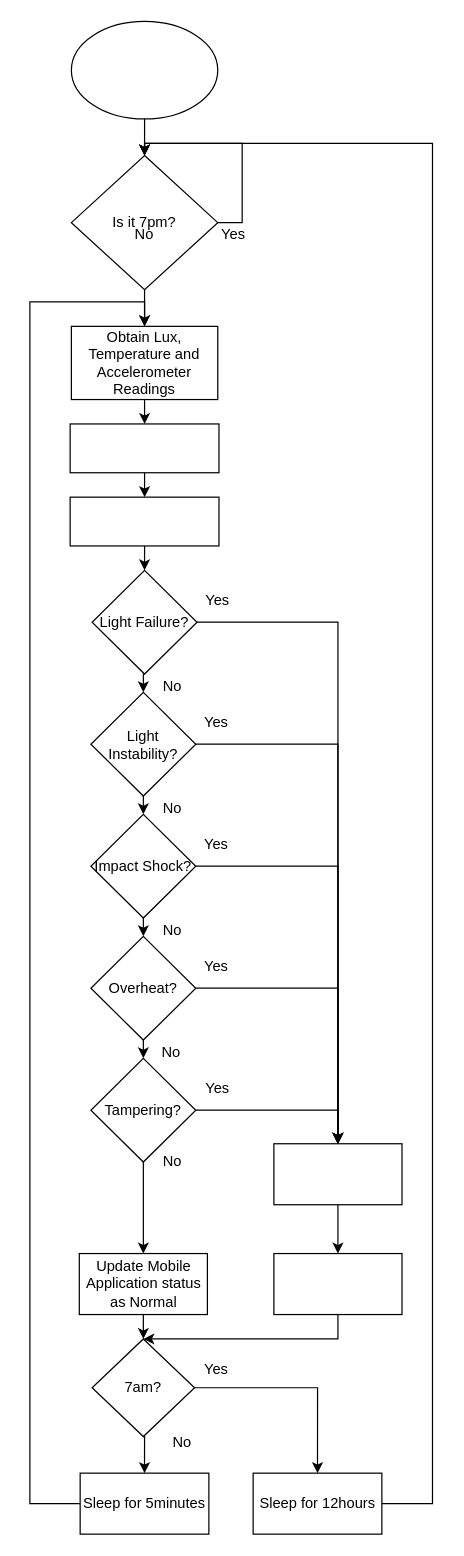
Image size: 464x1556. Some labels were removed from this diagram. The shapes that lost their labels are listed below. From the top down, each one's centre as x and y in pixels, then its label:
point (144, 69): Start
point (144, 448): Compute Readings
point (144, 521): Classification
point (337, 1174): Trigger Alert in Mobile Notification
point (337, 1283): Update Mobile Application Status
